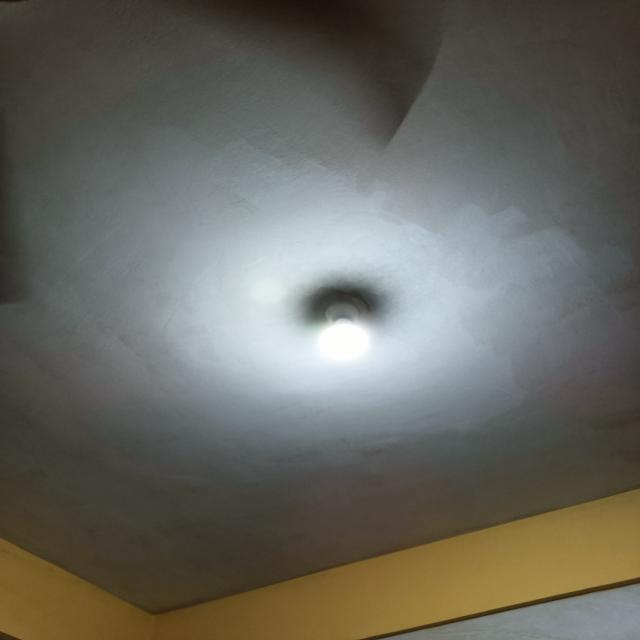bulb_on: (310, 302, 377, 380)
